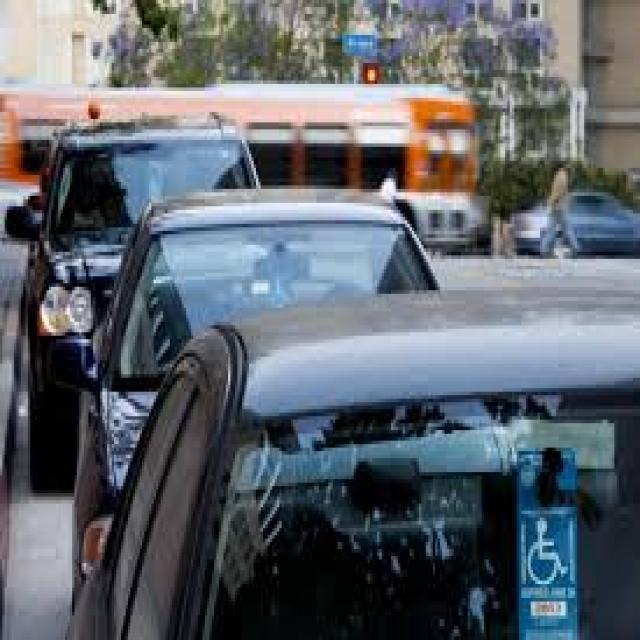symbol_of_access: (527, 517, 572, 587)
